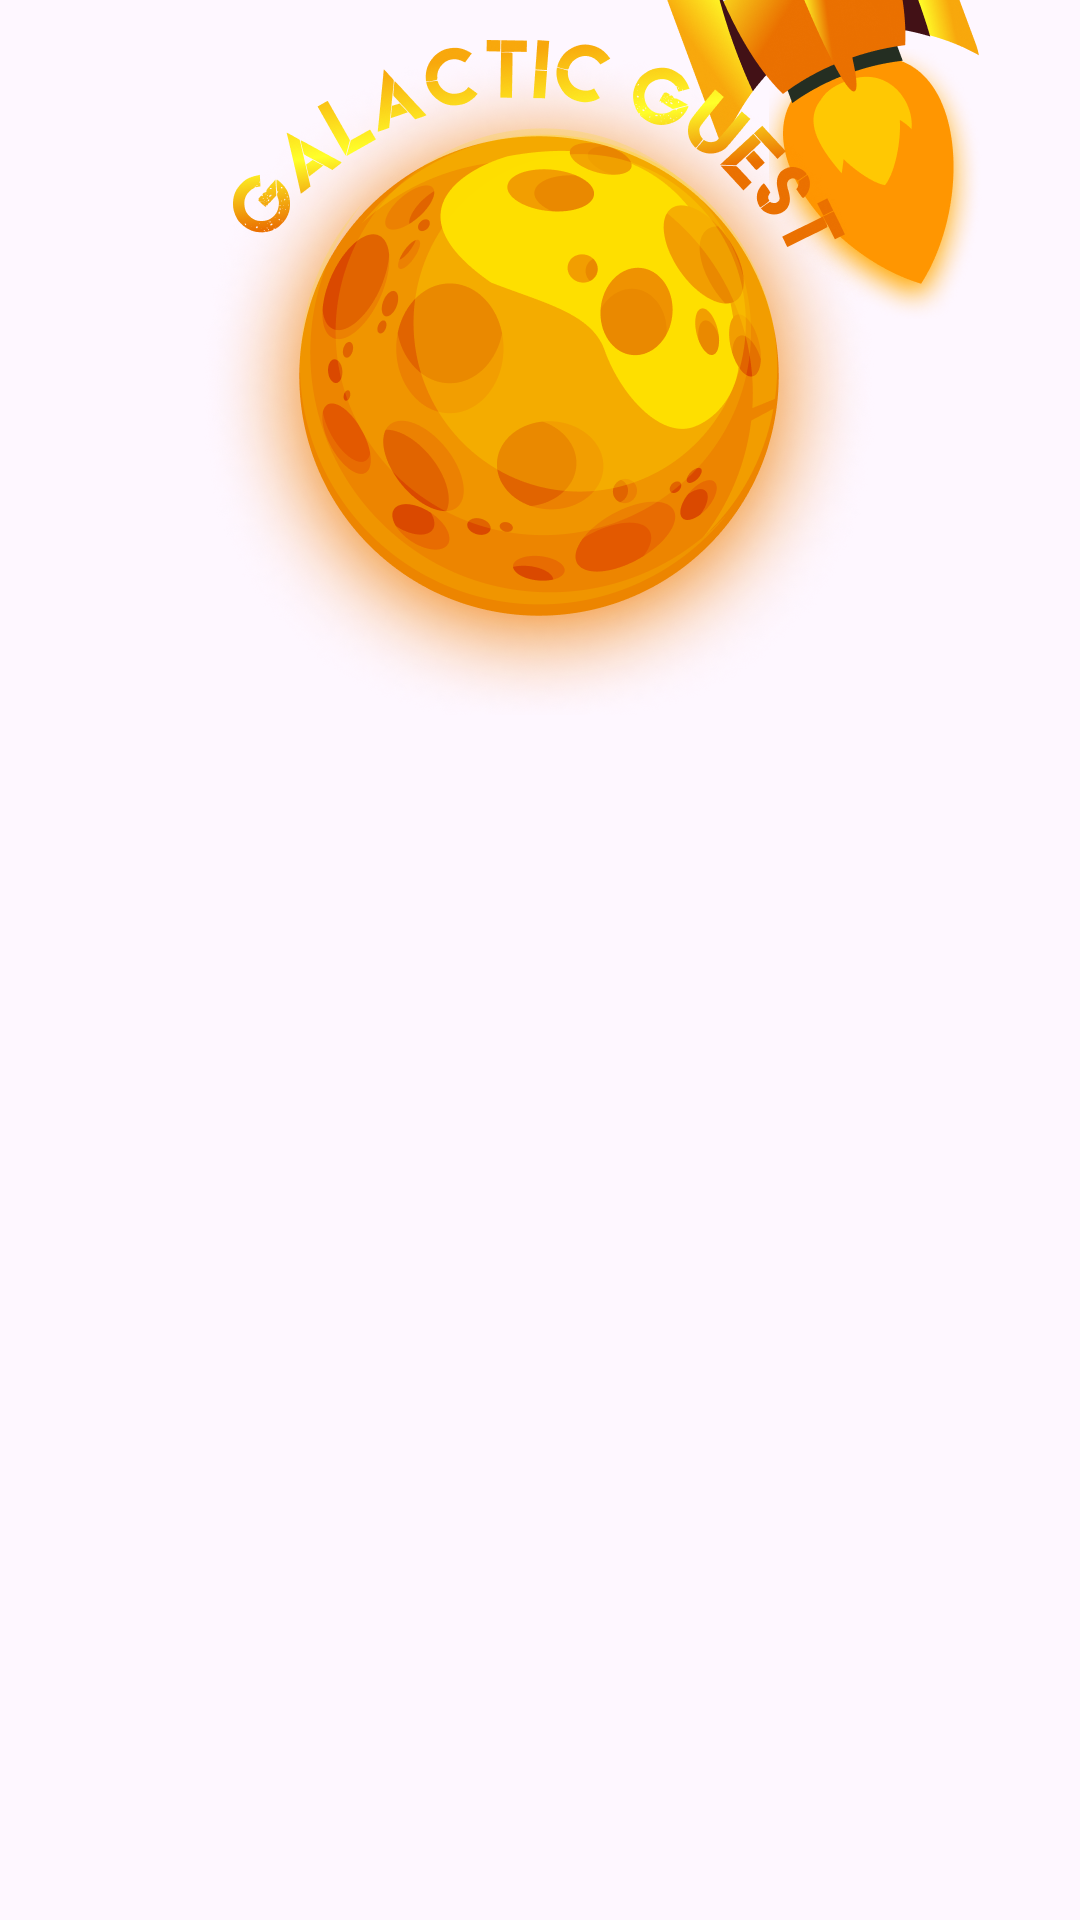

Named icons in this screenshot (1080px×1920px) and their centers, point (x, y):
rocket flame: point (874, 184)
